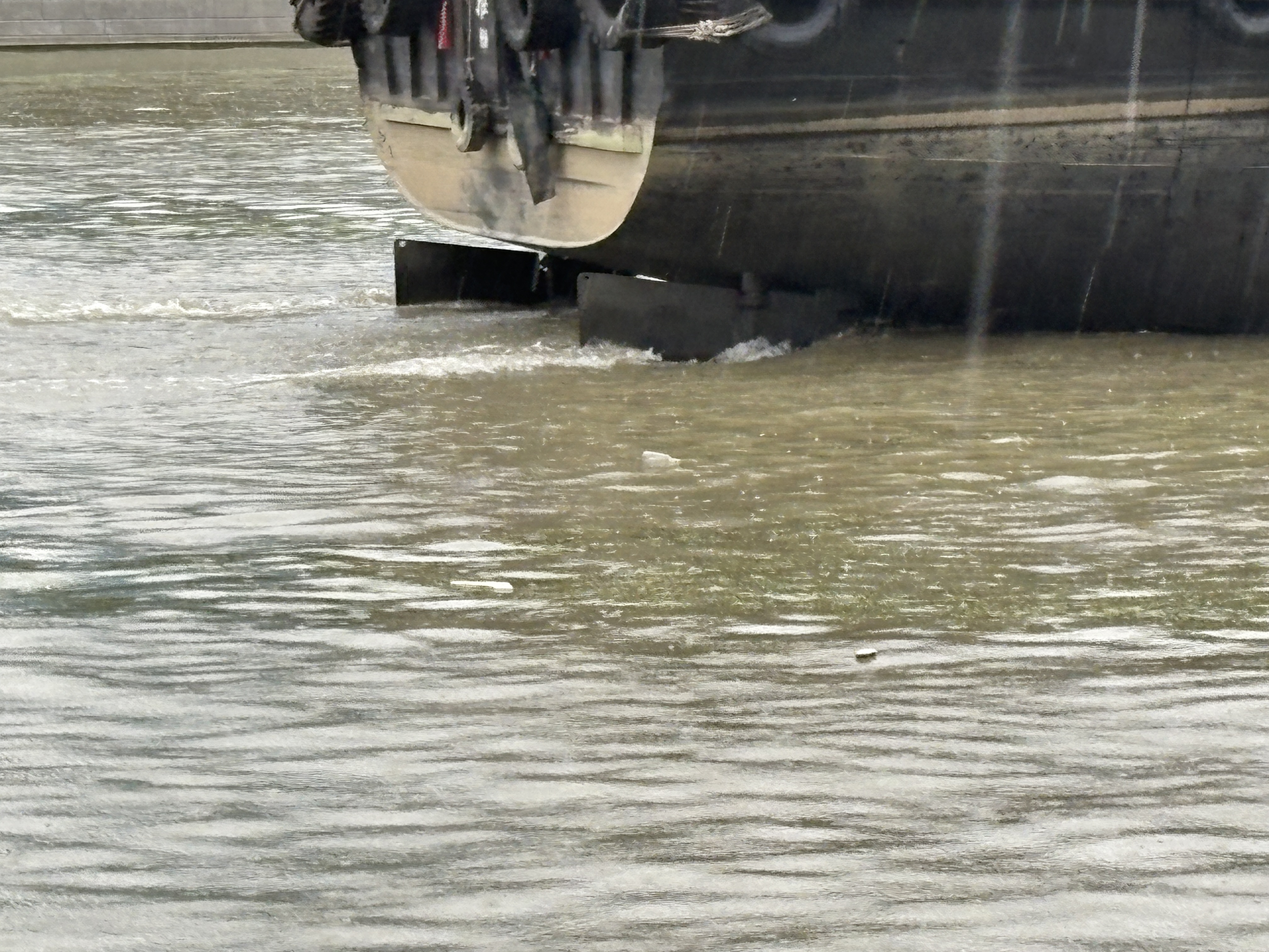Plastic wastes: (444, 572, 519, 592), (639, 448, 682, 468), (855, 647, 879, 661)
